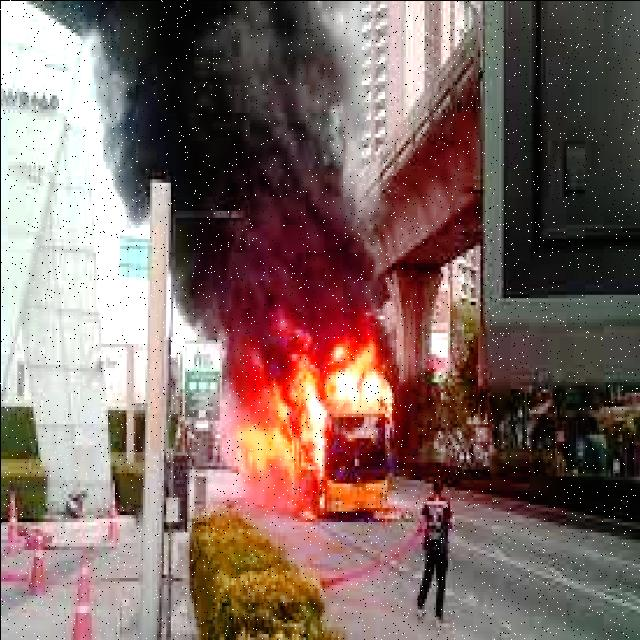api: (232, 306, 406, 512)
